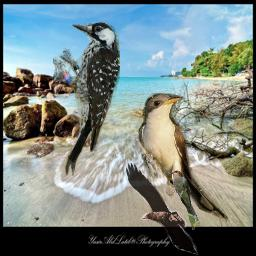Crow: (124, 161, 198, 256)
Cuckoo: (138, 93, 230, 226), (168, 170, 200, 230)
Woodpecker: (53, 22, 120, 176)
